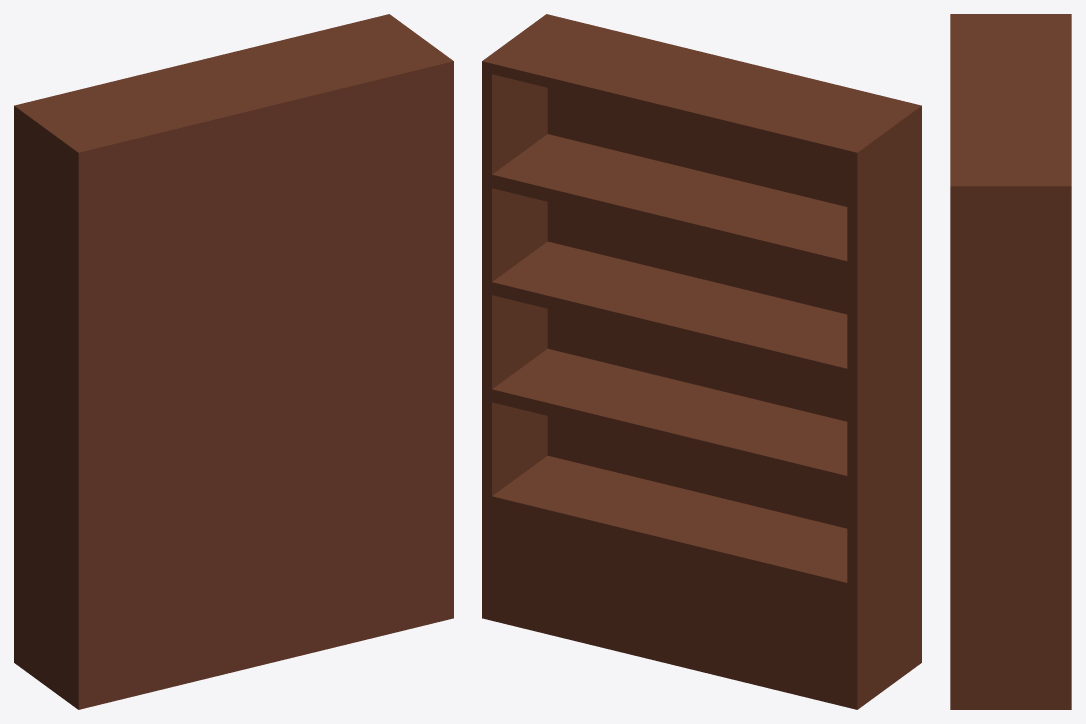
The model's file is Bookshelf.fbx.
3 views of the same model, side by side, from view 1: azimuth 30°, elevation 25°; view 2: azimuth 150°, elevation 25°; view 3: azimuth 270°, elevation 25° (orthographic). The views are drawn at different scales.
Parts seen in each view (by area): view 1: Bookshelf; view 2: Bookshelf; view 3: Bookshelf.
Part boxes in pixels (bbox=[...]): Bookshelf: bbox=[14, 14, 453, 709]; Bookshelf: bbox=[482, 14, 921, 709]; Bookshelf: bbox=[950, 14, 1071, 709].
Size of the model in its own units: 2 by 2.84 by 0.5951.
